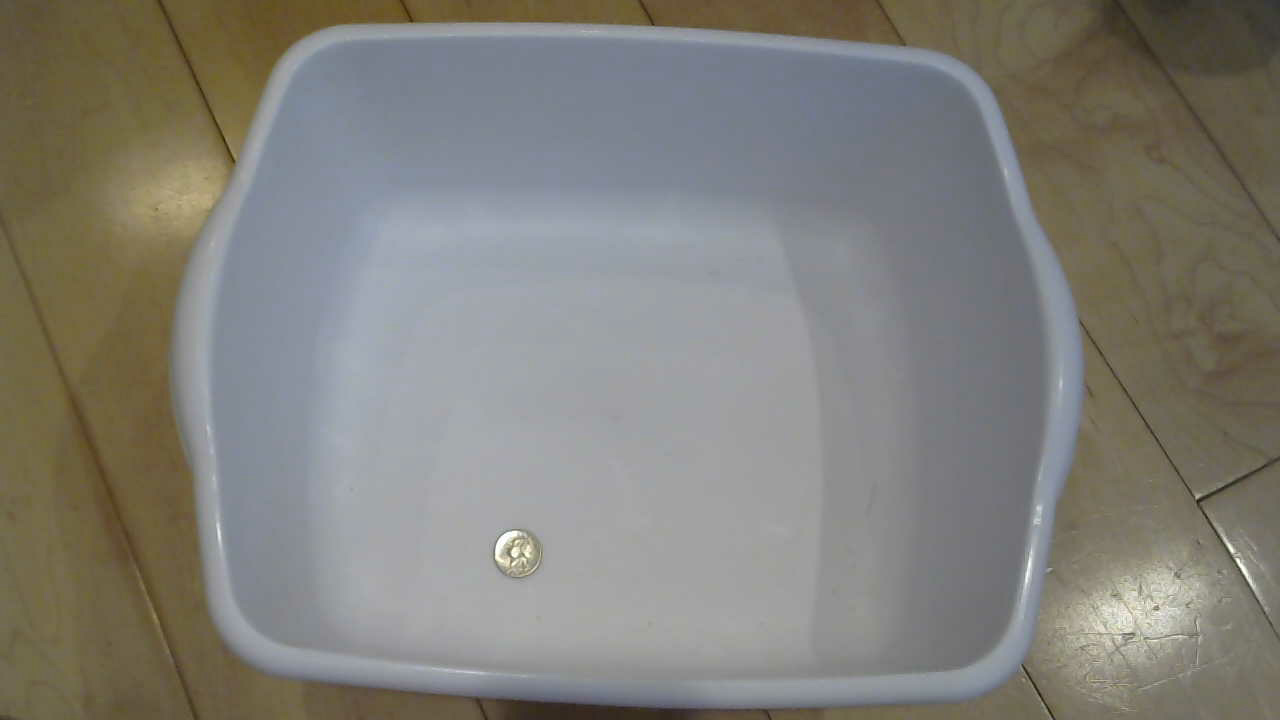coin: (487, 529, 552, 588)
